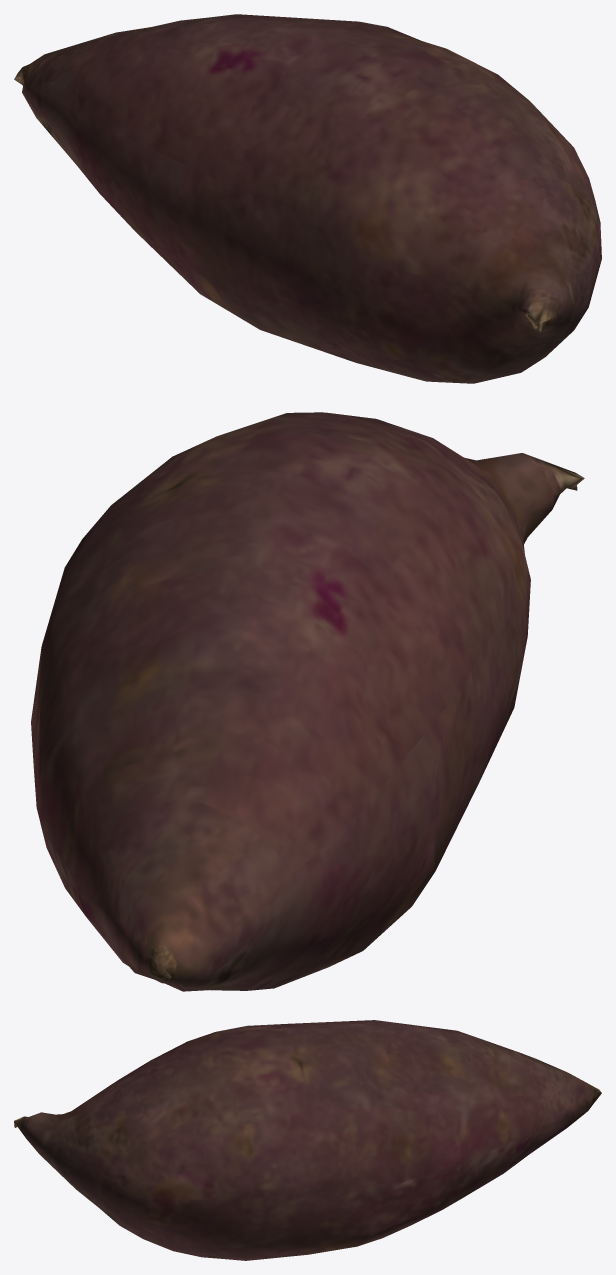
File: Potato.obj
3 renders of one model, top to bottom at view 1: azimuth 30°, elevation 25°; view 2: azimuth 150°, elevation 25°; view 3: azimuth 270°, elevation 25°, orthographic. The views are drawn at different scales.
Parts seen in each view (by area): view 1: MDCNR4UXWI01_LOD2(Clone)_Quality_3; view 2: MDCNR4UXWI01_LOD2(Clone)_Quality_3; view 3: MDCNR4UXWI01_LOD2(Clone)_Quality_3.
Part boxes in pixels (box(x1,y1,x2,y2)): MDCNR4UXWI01_LOD2(Clone)_Quality_3: box(14, 14, 601, 383); MDCNR4UXWI01_LOD2(Clone)_Quality_3: box(31, 412, 584, 991); MDCNR4UXWI01_LOD2(Clone)_Quality_3: box(14, 1020, 601, 1260).
Size of the model in its own units: 1.07 by 0.9771 by 2.36.
